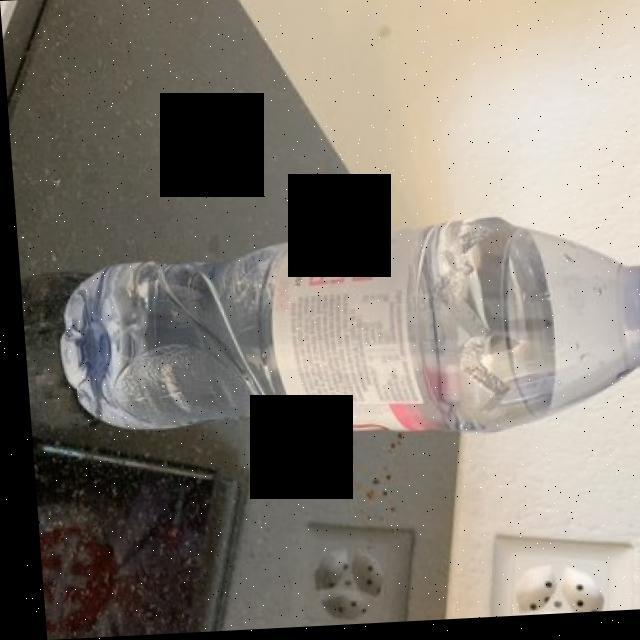water: (107, 230, 469, 437)
